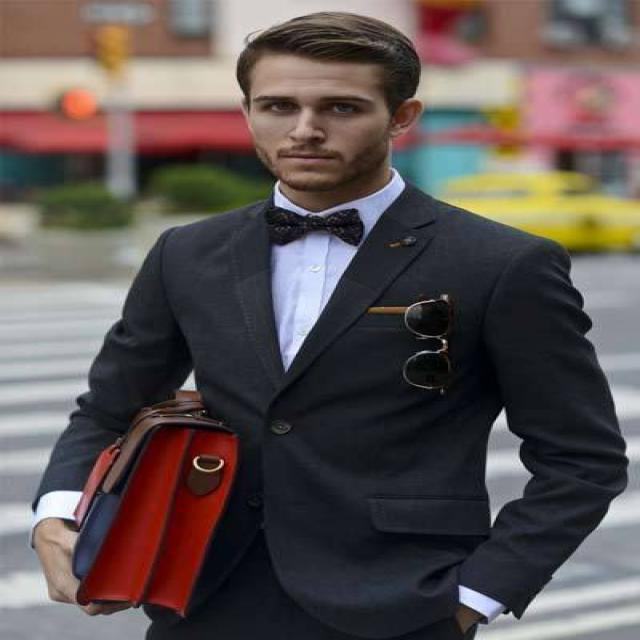human: (24, 4, 635, 640)
